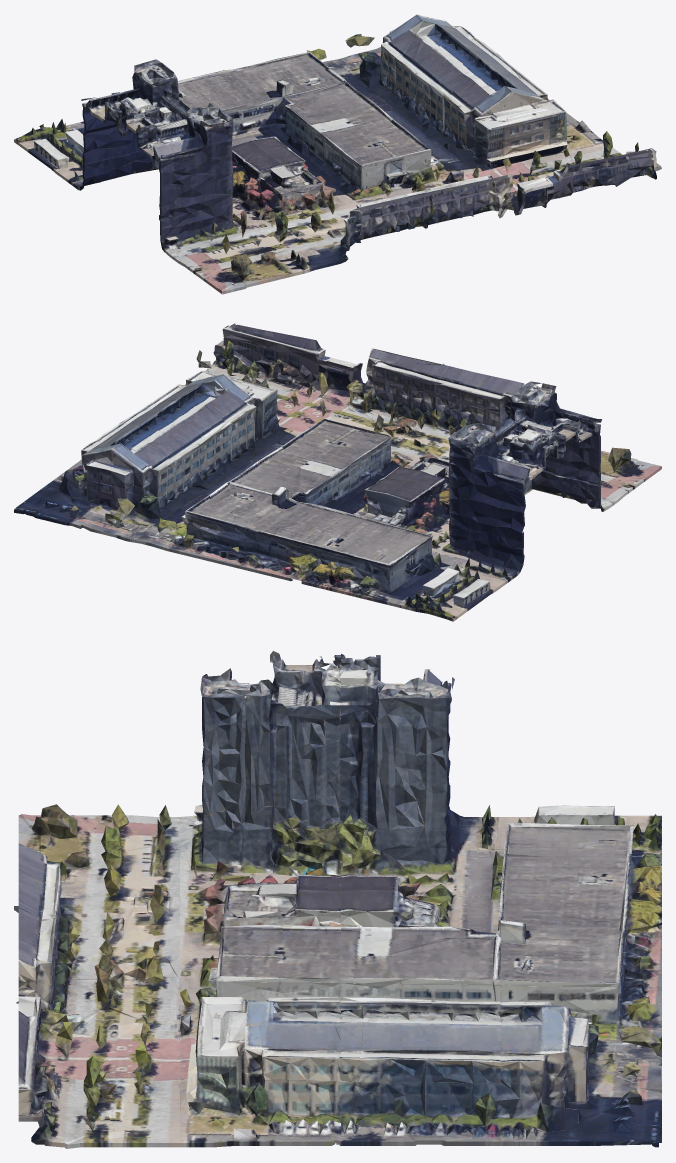
Rendered from Split19.fbx.
3 renders of one model, top to bottom at view 1: azimuth 30°, elevation 25°; view 2: azimuth 150°, elevation 25°; view 3: azimuth 270°, elevation 25°, orthographic. The views are drawn at different scales.
Parts seen in each view (by area): view 1: BuildingMesh-00086; view 2: BuildingMesh-00086; view 3: BuildingMesh-00086.
Boxes of the visible parts, x1,y1,x2,y2 form: BuildingMesh-00086: [14, 14, 661, 294]; BuildingMesh-00086: [14, 323, 661, 621]; BuildingMesh-00086: [14, 651, 661, 1148].
Bounding box in the file's own units: 196 × 49.42 × 161.
8 materials, 8 textured.
